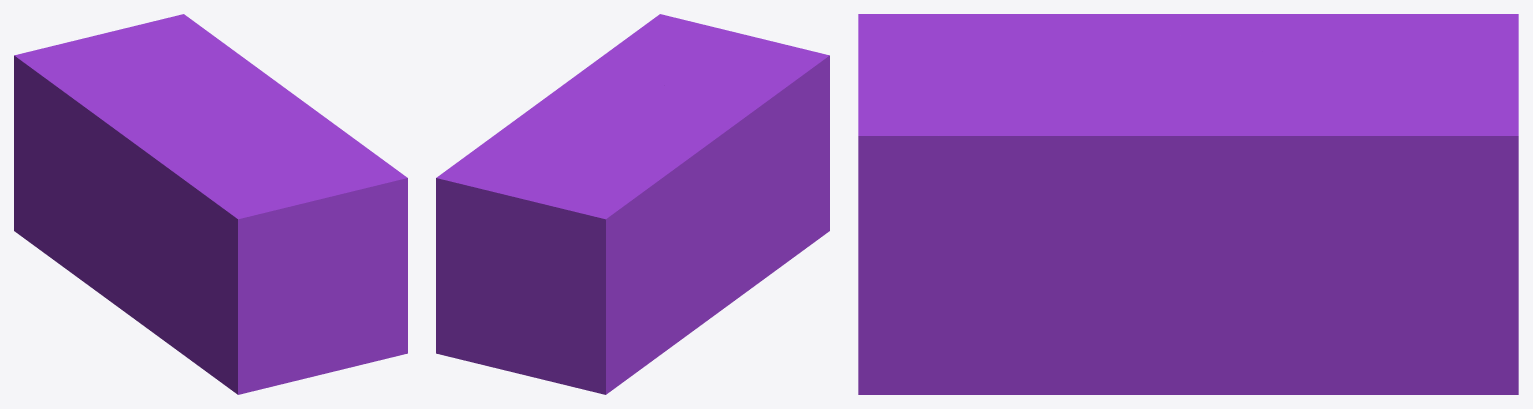
File: ExhibitGlass_1.004_chunks.fbx
3 renders of one model, left to right at view 1: azimuth 30°, elevation 25°; view 2: azimuth 150°, elevation 25°; view 3: azimuth 270°, elevation 25°, orthographic. The views are drawn at different scales.
Visible parts, largest first — view 1: ExhibitGlass_1.004_0, ExhibitGlass_1.004_1, ExhibitGlass_1.004_9, ExhibitGlass_1.004_7, ExhibitGlass_1.004_6; view 2: ExhibitGlass_1.004_1, ExhibitGlass_1.004_0, ExhibitGlass_1.004_9, ExhibitGlass_1.004_6, ExhibitGlass_1.004_7, ExhibitGlass_1.004_5; view 3: ExhibitGlass_1.004_0, ExhibitGlass_1.004_9, ExhibitGlass_1.004_7, ExhibitGlass_1.004_5, ExhibitGlass_1.004_8, ExhibitGlass_1.004_2, ExhibitGlass_1.004_1, ExhibitGlass_1.004_4, ExhibitGlass_1.004_6.
Boxes of the visible parts, x1=… form: ExhibitGlass_1.004_0: x1=131, y1=132, x2=407, y2=394; ExhibitGlass_1.004_1: x1=14, y1=26, x2=158, y2=319; ExhibitGlass_1.004_9: x1=148, y1=69, x2=379, y2=157; ExhibitGlass_1.004_7: x1=166, y1=14, x2=280, y2=84; ExhibitGlass_1.004_6: x1=135, y1=18, x2=195, y2=82; ExhibitGlass_1.004_1: x1=436, y1=128, x2=727, y2=394; ExhibitGlass_1.004_0: x1=633, y1=14, x2=829, y2=305; ExhibitGlass_1.004_9: x1=533, y1=34, x2=690, y2=156; ExhibitGlass_1.004_6: x1=436, y1=146, x2=594, y2=257; ExhibitGlass_1.004_7: x1=436, y1=107, x2=542, y2=214; ExhibitGlass_1.004_5: x1=436, y1=298, x2=457, y2=357; ExhibitGlass_1.004_0: x1=858, y1=14, x2=1180, y2=394; ExhibitGlass_1.004_9: x1=938, y1=35, x2=1343, y2=187; ExhibitGlass_1.004_7: x1=1222, y1=102, x2=1518, y2=270; ExhibitGlass_1.004_5: x1=1245, y1=273, x2=1518, y2=394; ExhibitGlass_1.004_8: x1=979, y1=178, x2=1370, y2=277; ExhibitGlass_1.004_2: x1=939, y1=262, x2=1271, y2=358; ExhibitGlass_1.004_1: x1=1173, y1=14, x2=1518, y2=312; ExhibitGlass_1.004_4: x1=900, y1=330, x2=1319, y2=394; ExhibitGlass_1.004_6: x1=1337, y1=66, x2=1518, y2=281.
Size of the model in its own units: 270 by 267 by 618.
